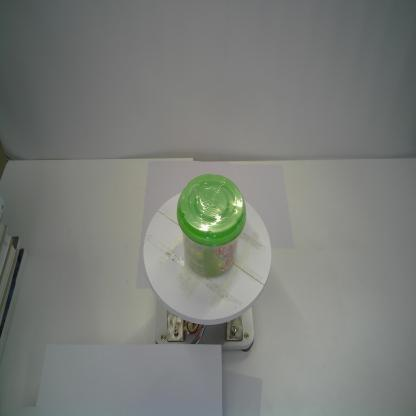Instant Drink: (174, 171, 247, 278)
